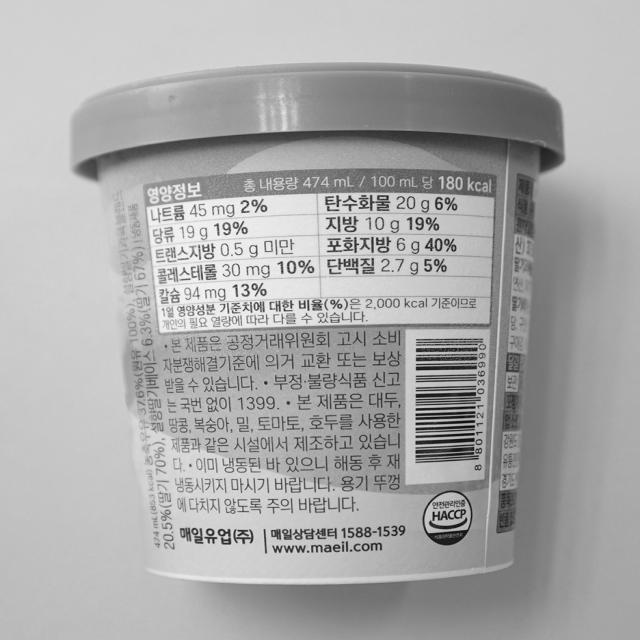Nutrition Label: (135, 161, 504, 343)
